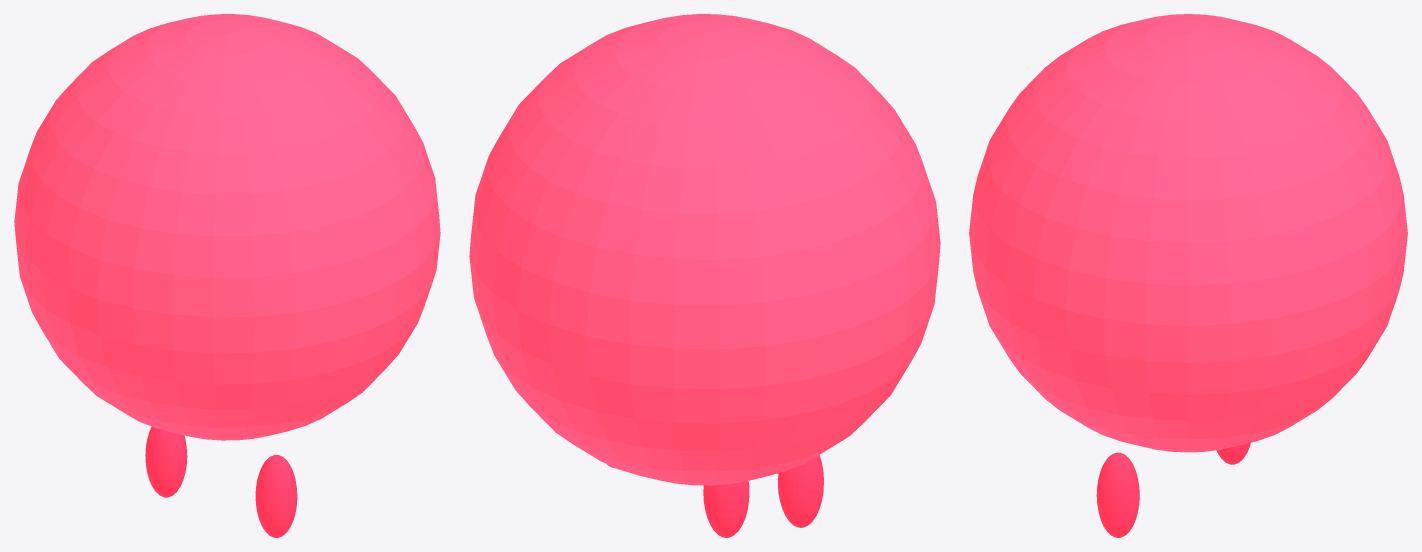
Rendered from blood_orb.glb.
The picture shows the model from 3 angles, left to right: view 1: azimuth 30°, elevation 25°; view 2: azimuth 150°, elevation 25°; view 3: azimuth 270°, elevation 25°; orthographic projection. The views are drawn at different scales.
Parts seen in each view (by area): view 1: Sphere, Sphere.004, Sphere.003; view 2: Sphere, Sphere.003, Sphere.004; view 3: Sphere, Sphere.004.
Boxes of the visible parts, x1,y1,x2,y2 form: Sphere: [14, 14, 440, 440]; Sphere.004: [255, 455, 297, 537]; Sphere.003: [145, 427, 187, 497]; Sphere: [469, 14, 940, 485]; Sphere.003: [778, 455, 823, 527]; Sphere.004: [703, 481, 749, 537]; Sphere: [969, 14, 1407, 452]; Sphere.004: [1096, 452, 1139, 537].
Size of the model in its own units: 0.7812 by 0.9727 by 0.7812.
